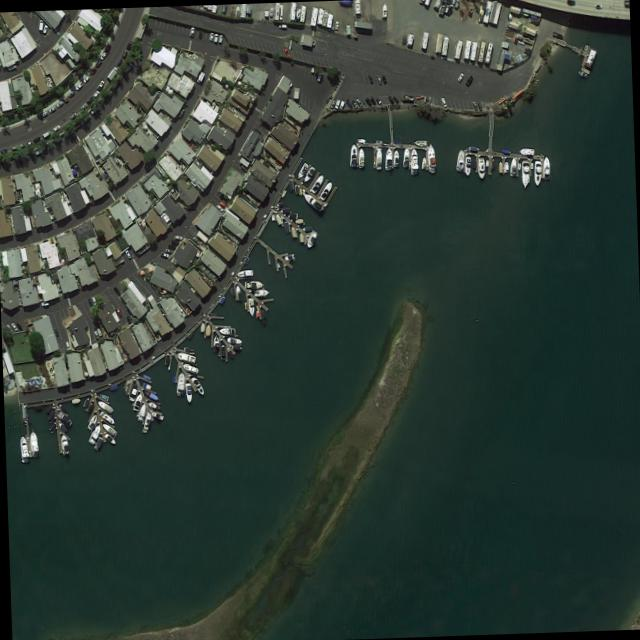large-vehicle: (105, 65, 116, 79)
ship: (300, 190, 322, 212), (317, 178, 332, 200), (189, 374, 204, 395), (17, 434, 28, 461), (309, 172, 323, 193), (95, 397, 112, 414), (55, 408, 71, 426), (174, 349, 194, 363), (87, 422, 100, 443), (174, 370, 185, 394), (97, 409, 114, 424), (295, 160, 308, 179), (426, 141, 434, 171), (100, 421, 116, 436), (301, 164, 314, 182), (28, 429, 37, 455), (180, 361, 198, 374), (584, 46, 595, 67), (454, 147, 464, 170), (304, 229, 316, 248), (520, 159, 528, 187), (131, 390, 142, 410), (408, 147, 416, 173), (85, 412, 97, 429), (532, 159, 540, 184), (127, 381, 137, 401), (541, 154, 549, 178), (136, 401, 146, 420), (142, 388, 157, 399), (92, 435, 103, 450), (348, 142, 355, 165), (383, 146, 390, 169), (258, 306, 266, 326), (243, 279, 263, 287), (103, 431, 115, 444), (56, 419, 67, 433), (142, 410, 150, 429), (148, 409, 163, 419), (184, 381, 191, 402), (463, 155, 470, 175), (60, 433, 67, 453), (234, 268, 251, 276), (247, 296, 254, 315), (374, 146, 380, 168), (146, 399, 159, 409), (517, 146, 533, 154), (225, 335, 241, 343), (477, 156, 483, 177), (46, 407, 55, 421), (402, 146, 408, 166), (217, 326, 234, 333), (234, 282, 241, 299), (47, 420, 56, 433), (252, 288, 268, 295), (97, 391, 108, 401), (357, 147, 363, 165), (509, 156, 515, 174), (81, 396, 90, 408), (273, 211, 281, 224), (211, 334, 217, 351), (282, 251, 293, 260), (380, 2, 386, 17), (141, 380, 150, 390), (576, 68, 586, 77), (499, 146, 510, 154), (225, 347, 233, 358), (392, 148, 397, 164), (219, 343, 224, 359), (412, 138, 425, 144), (300, 224, 311, 231), (282, 220, 288, 232), (289, 224, 295, 236), (217, 294, 225, 303), (107, 383, 117, 390), (85, 401, 92, 411), (278, 206, 289, 212), (285, 211, 296, 217), (467, 144, 478, 150), (420, 155, 425, 168), (204, 322, 209, 335), (355, 136, 364, 143), (275, 200, 284, 207), (182, 345, 191, 352), (279, 188, 286, 197), (163, 352, 168, 364), (230, 344, 240, 350), (234, 5, 239, 16), (502, 160, 507, 171), (292, 183, 297, 194), (470, 157, 475, 168), (70, 396, 79, 402), (293, 217, 303, 222), (297, 231, 302, 241), (489, 158, 494, 168), (198, 321, 203, 331), (497, 159, 501, 171), (516, 161, 521, 169), (374, 138, 381, 143), (529, 160, 533, 167), (484, 158, 488, 165)
small-vehicle: (463, 74, 472, 86), (95, 78, 104, 90), (13, 320, 22, 331), (363, 94, 371, 106), (196, 70, 204, 82), (40, 129, 50, 138), (54, 98, 63, 108), (74, 80, 83, 90), (550, 30, 561, 38), (374, 73, 382, 84), (214, 201, 222, 212), (78, 101, 87, 110), (93, 57, 101, 67), (353, 96, 361, 106), (368, 94, 376, 104), (4, 322, 12, 332), (9, 320, 17, 330), (439, 95, 446, 106), (456, 71, 463, 82), (366, 72, 373, 83), (114, 305, 121, 316), (47, 104, 55, 113), (81, 73, 89, 82), (391, 93, 399, 102), (470, 98, 477, 108), (115, 57, 122, 67), (344, 97, 351, 107), (350, 97, 357, 107), (379, 74, 386, 84), (386, 93, 393, 103), (6, 63, 16, 70), (158, 250, 168, 257), (476, 100, 482, 111), (125, 38, 131, 49), (283, 46, 289, 57), (315, 70, 321, 81), (92, 328, 98, 339), (31, 135, 39, 143), (103, 42, 110, 51), (51, 123, 60, 130), (88, 65, 95, 74), (99, 50, 106, 59), (337, 99, 344, 108), (374, 95, 381, 104), (41, 22, 47, 32), (329, 98, 335, 108), (333, 97, 339, 107), (63, 339, 69, 349), (124, 248, 130, 258), (68, 111, 75, 119), (86, 95, 93, 103), (40, 110, 48, 117), (170, 238, 178, 245), (218, 199, 225, 207), (188, 25, 193, 36), (120, 48, 126, 57), (32, 148, 41, 154), (39, 299, 48, 305), (90, 295, 96, 304), (38, 17, 42, 30), (212, 32, 217, 42), (333, 19, 338, 29), (86, 296, 91, 306), (67, 89, 74, 96), (92, 89, 98, 97), (197, 27, 201, 39), (163, 247, 171, 253), (166, 243, 174, 249), (15, 142, 24, 147), (565, 0, 574, 5), (208, 31, 213, 40), (217, 33, 222, 42), (277, 22, 286, 27), (173, 234, 182, 238), (594, 3, 601, 8), (449, 0, 454, 6)
